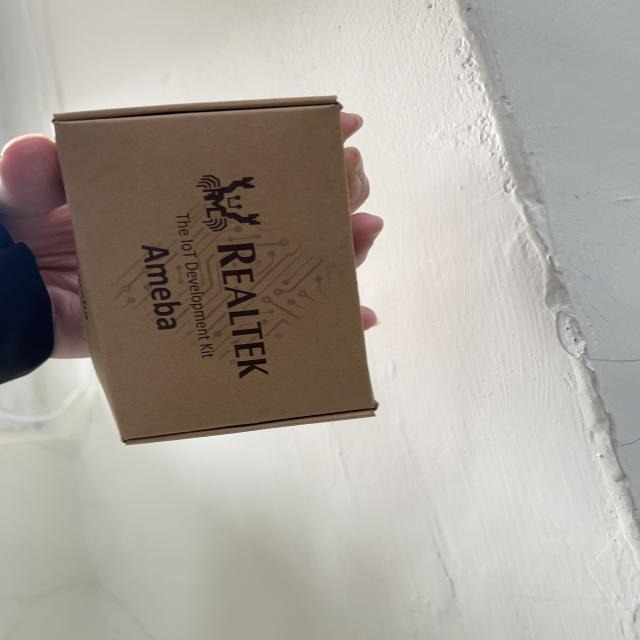box: (40, 100, 399, 457)
